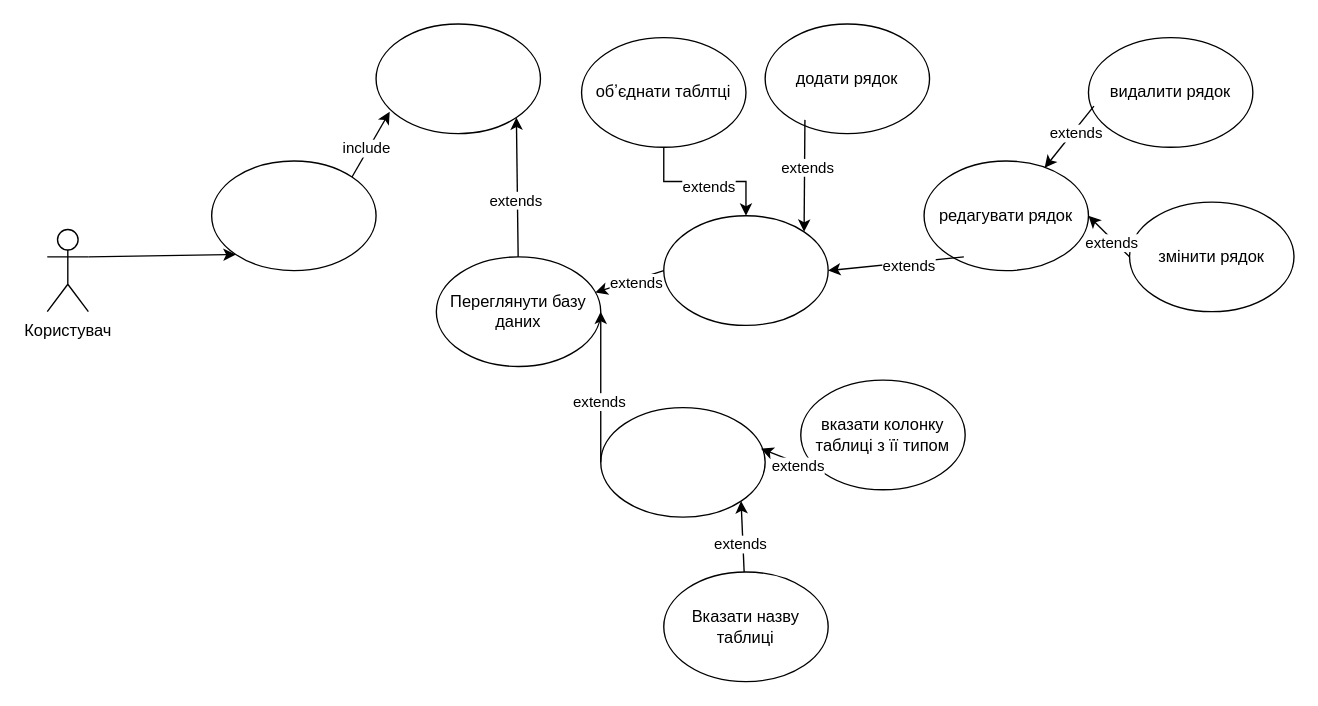
Some shapes in this 1318 by 706 pixel diagram are drawn without their labels. Each missing label, with the centre of its shape:
Вказати назву: (x=293, y=215)
Додати таблицю: (x=682, y=461)
переглянути таблицю: (x=745, y=269)
Створити базу даних: (x=457, y=78)
